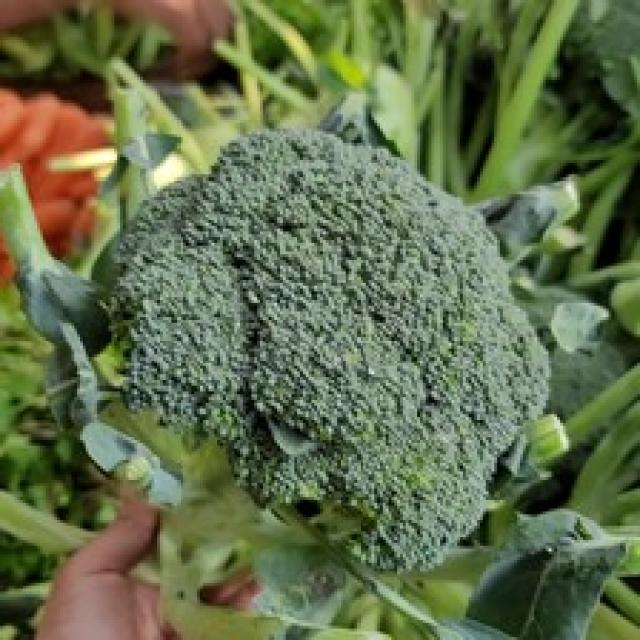Broccoli: (110, 130, 548, 568), (110, 130, 546, 568)
